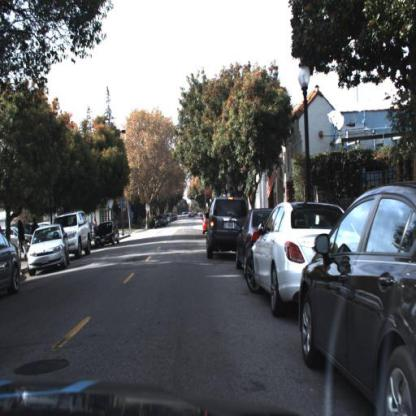car: (300, 183, 416, 416), (244, 190, 356, 320), (234, 205, 288, 280), (203, 193, 258, 264), (23, 223, 78, 280), (52, 210, 98, 261), (94, 217, 123, 251), (158, 217, 170, 233)
pedestrian: (93, 216, 98, 243), (31, 217, 39, 233)
